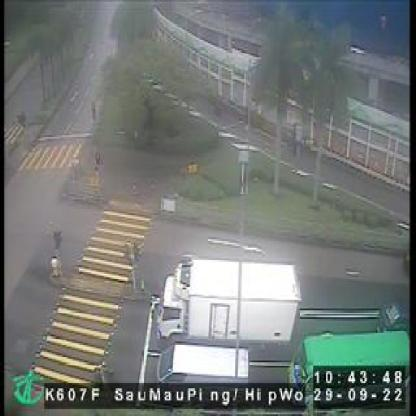Car: (151, 334, 252, 405)
Minibus: (290, 326, 409, 409)
Truck: (155, 262, 300, 346)
